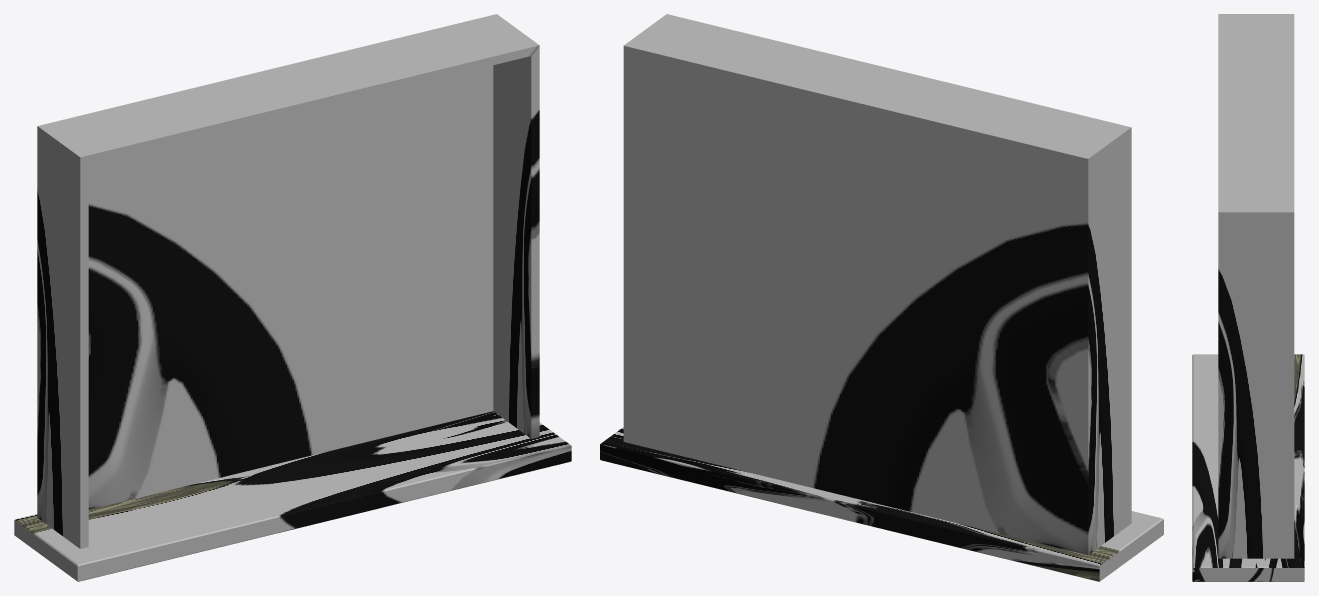
File: Drawer_M.obj
3 views of the same model, side by side, from view 1: azimuth 30°, elevation 25°; view 2: azimuth 150°, elevation 25°; view 3: azimuth 270°, elevation 25° (orthographic). The views are drawn at different scales.
Bounding box in the file's own units: 0.762 × 0.6044 × 0.1694.
